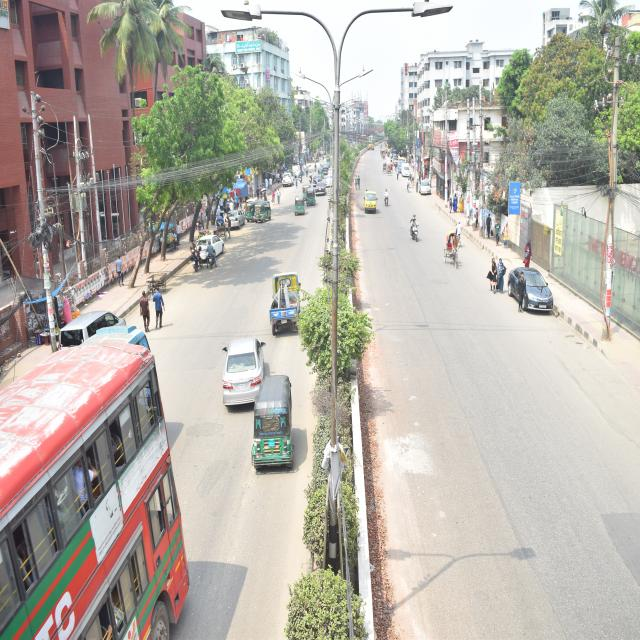bus: (0, 335, 192, 640)
car: (220, 332, 264, 414), (508, 264, 554, 314), (197, 234, 226, 262), (224, 210, 245, 231), (420, 175, 433, 198)
motorbike: (408, 219, 421, 244)
pickup-van: (270, 272, 300, 334), (362, 184, 379, 220)
